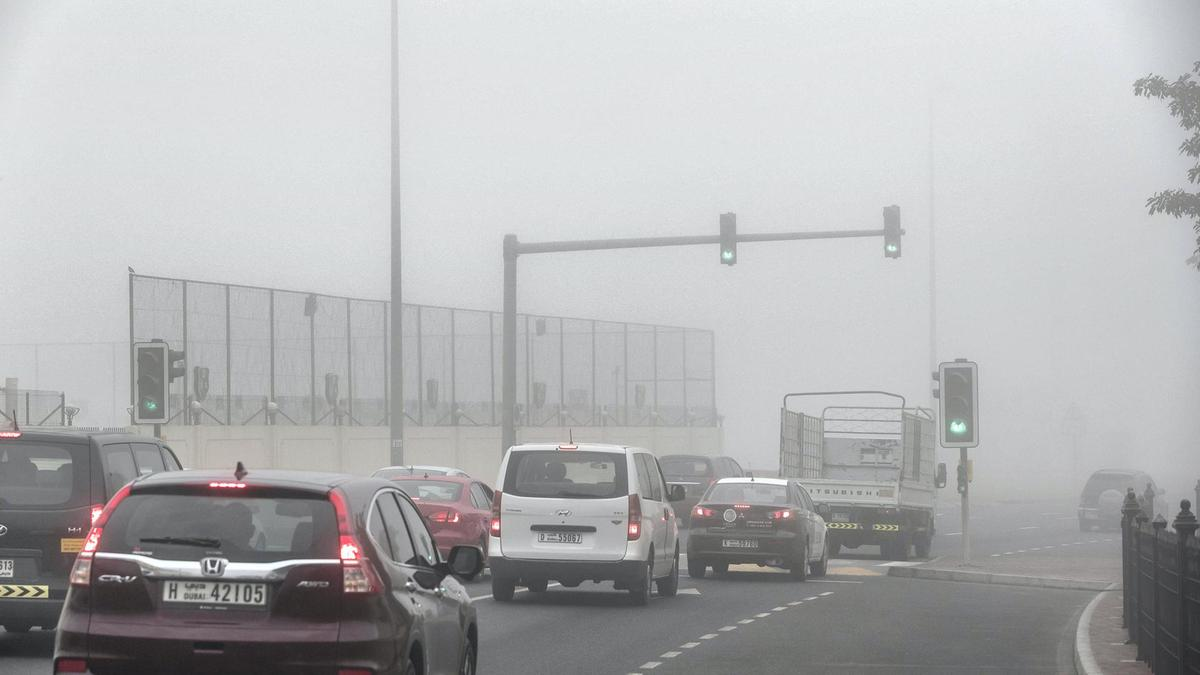car: (50, 462, 479, 671), (0, 425, 188, 655), (480, 440, 682, 608), (369, 465, 495, 589), (687, 474, 829, 581), (1077, 467, 1171, 534), (657, 449, 747, 505)
truck: (775, 386, 945, 558)
